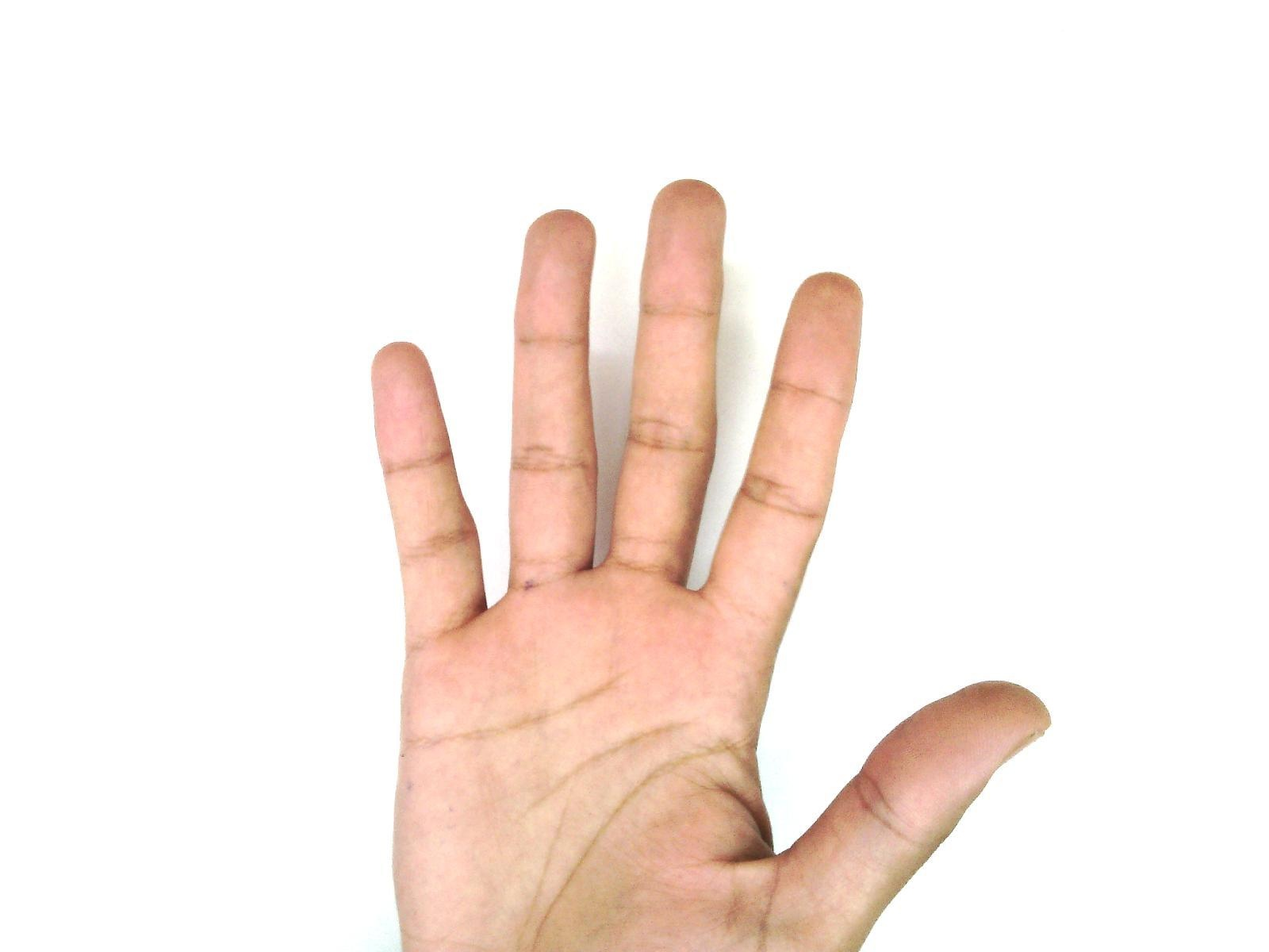open_palm: (366, 178, 1053, 951)
